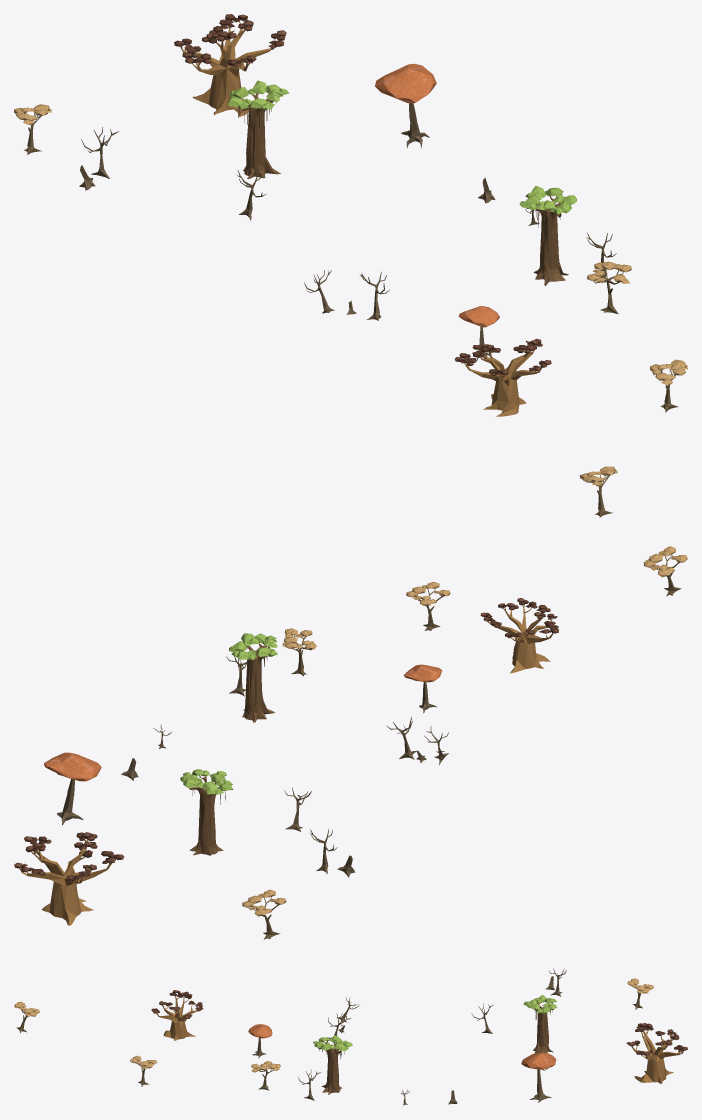
Rendered from Desert Tree.fbx.
3 renders of one model, top to bottom at view 1: azimuth 30°, elevation 25°; view 2: azimuth 150°, elevation 25°; view 3: azimuth 270°, elevation 25°, orthographic. The views are drawn at different scales.
Visible parts, largest first — view 1: Tree_Dry_C.002, Tree_Dry_C, Tree_Dry_D, Tree_Dry_D.002, Tree_Dry_A, Tree_Dry_B_02.003; view 2: Tree_Dry_C.002, Tree_Dry_C, Tree_Dry_D.002, Tree_Dry_D, Tree_Dry_A, Tree_Dry_B_02.002, Tree_Dry_B_02, Tree_Dry_A.001, Tree_Dry_B_02.001, Tree_Dry_B_02.003; view 3: Tree_Dry_C.002, Tree_Dry_C, Tree_Dry_D.002, Tree_Dry_D, Tree_Dry_A, Tree_Dry_A.001, Tree_Dry_B_02.003, Tree_Dry_B_02, Tree_Dry_B_02.002, Tree_Dry_B_02.001.
Part boxes in pixels (x1,y1,x2,y2): Tree_Dry_C.002: [174, 14, 286, 117]; Tree_Dry_C: [454, 339, 551, 416]; Tree_Dry_D: [228, 80, 289, 178]; Tree_Dry_D.002: [519, 185, 576, 285]; Tree_Dry_A: [375, 63, 436, 148]; Tree_Dry_B_02.003: [587, 261, 631, 314]; Tree_Dry_C.002: [14, 832, 124, 925]; Tree_Dry_C: [480, 598, 559, 673]; Tree_Dry_D.002: [229, 633, 277, 722]; Tree_Dry_D: [180, 769, 233, 855]; Tree_Dry_A: [44, 752, 101, 825]; Tree_Dry_B_02.002: [643, 546, 687, 596]; Tree_Dry_B_02: [242, 889, 286, 939]; Tree_Dry_A.001: [403, 664, 442, 713]; Tree_Dry_B_02.001: [406, 581, 450, 630]; Tree_Dry_B_02.003: [282, 628, 316, 676]; Tree_Dry_C.002: [626, 1023, 687, 1083]; Tree_Dry_C: [151, 990, 203, 1040]; Tree_Dry_D.002: [313, 1035, 352, 1094]; Tree_Dry_D: [523, 995, 556, 1053]; Tree_Dry_A: [521, 1052, 556, 1102]; Tree_Dry_A.001: [248, 1024, 272, 1057]; Tree_Dry_B_02.003: [251, 1061, 280, 1090]; Tree_Dry_B_02: [627, 978, 653, 1009]; Tree_Dry_B_02.002: [14, 1001, 39, 1032]; Tree_Dry_B_02.001: [130, 1055, 156, 1086].
Bounding box in the file's own units: 3797 × 1036 × 10608.
Materials: 15 (15 with a texture image).
